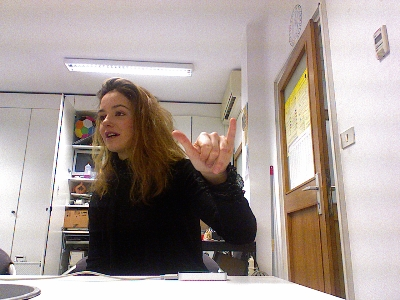六六六: (169, 117, 237, 177)
